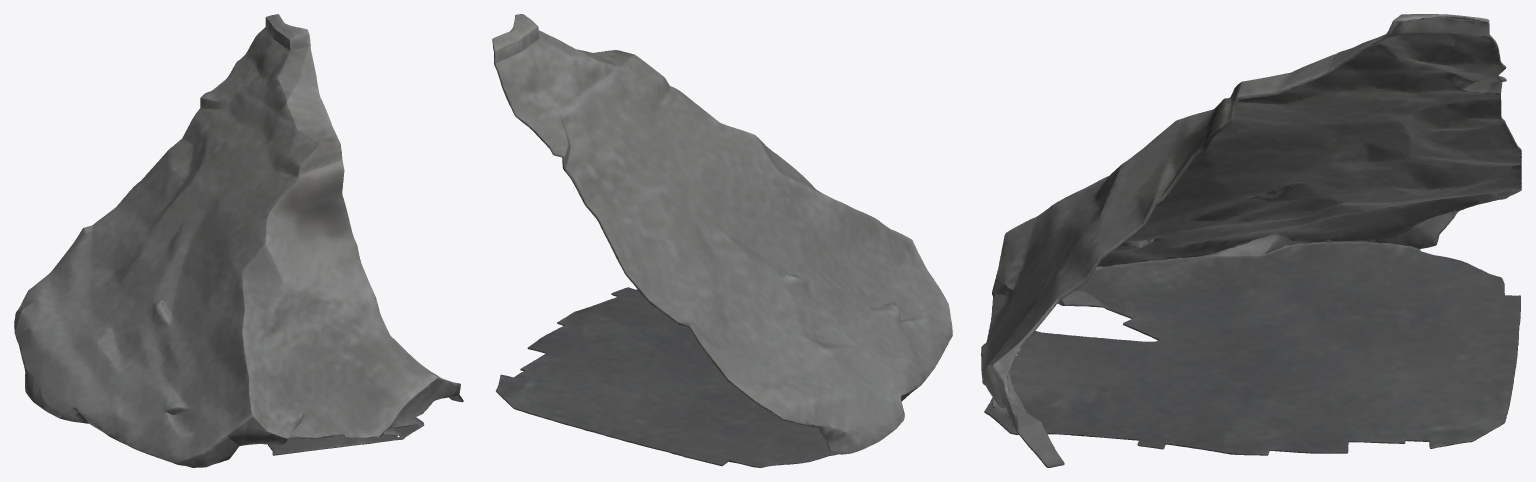
3 renders of one model, left to right at view 1: azimuth 30°, elevation 25°; view 2: azimuth 150°, elevation 25°; view 3: azimuth 270°, elevation 25°, orthographic. The views are drawn at different scales.
Parts seen in each view (by area): view 1: world; view 2: world; view 3: world.
Boxes of the visible parts, bbox=[...] form: world: bbox=[14, 14, 463, 467]; world: bbox=[492, 14, 952, 467]; world: bbox=[981, 14, 1521, 467].
Bounding box in the file's own units: 0.18 × 0.1573 × 0.1802.
1 material, 1 textured.
